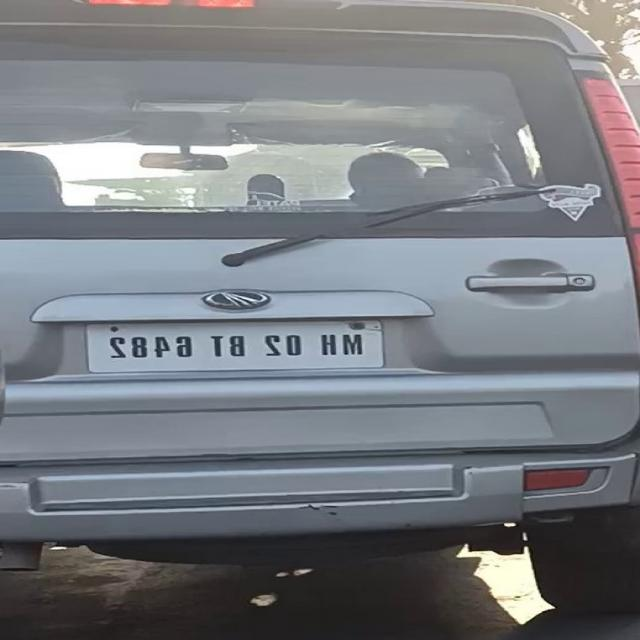license_plate: (74, 308, 393, 380)
